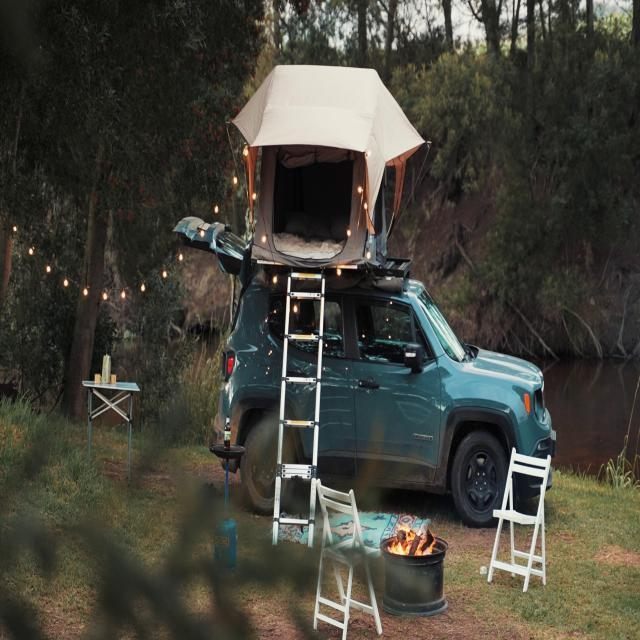Fire: (388, 512, 436, 558)
